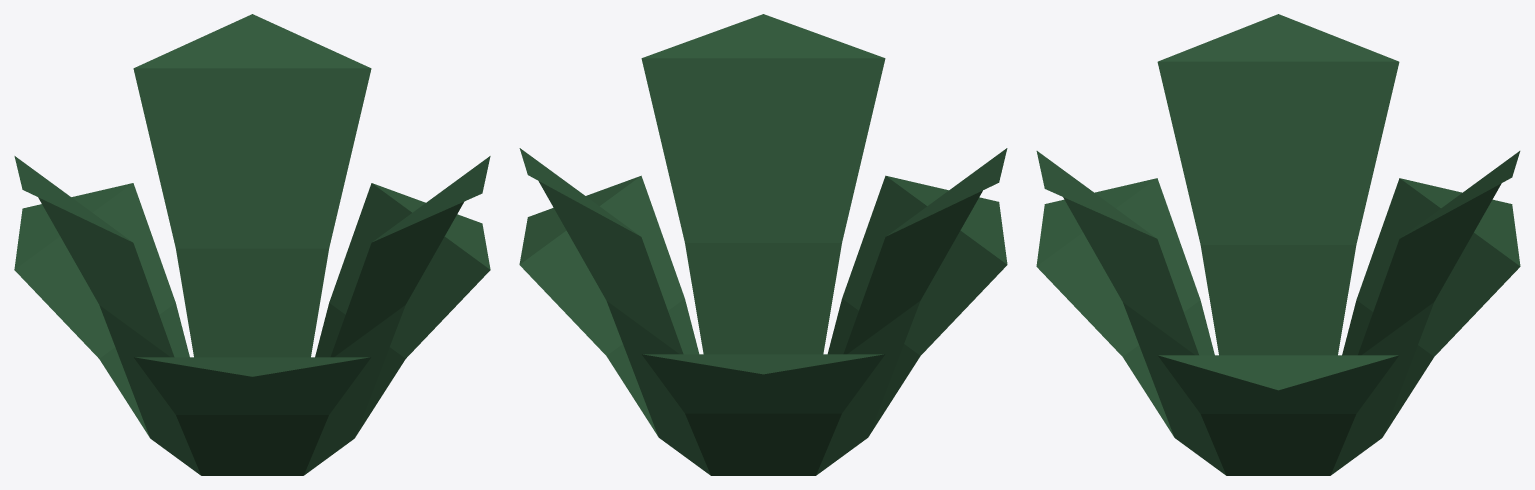
Rendered from plant_bushLarge.glb.
The picture shows the model from 3 angles, left to right: view 1: azimuth 30°, elevation 25°; view 2: azimuth 150°, elevation 25°; view 3: azimuth 270°, elevation 25°; orthographic projection. The views are drawn at different scales.
Visible parts, largest first — view 1: plant_bushLarge; view 2: plant_bushLarge; view 3: plant_bushLarge.
Part boxes in pixels (<box>): plant_bushLarge: <box>14,14,490,475</box>; plant_bushLarge: <box>519,14,1007,475</box>; plant_bushLarge: <box>1036,14,1520,475</box>.
Size of the model in its own units: 0.3743 by 0.2429 by 0.3357.
